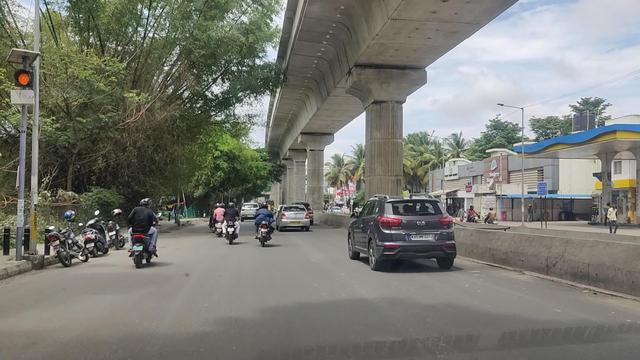LMV: (351, 193, 459, 272), (125, 198, 155, 272), (253, 200, 277, 249), (222, 200, 239, 246)
